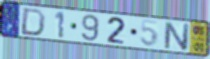1: (54, 11, 65, 40)
2: (105, 16, 128, 46)
5: (139, 19, 160, 49)
9: (79, 14, 101, 43)
D: (19, 7, 47, 38)
N: (163, 20, 190, 52)
